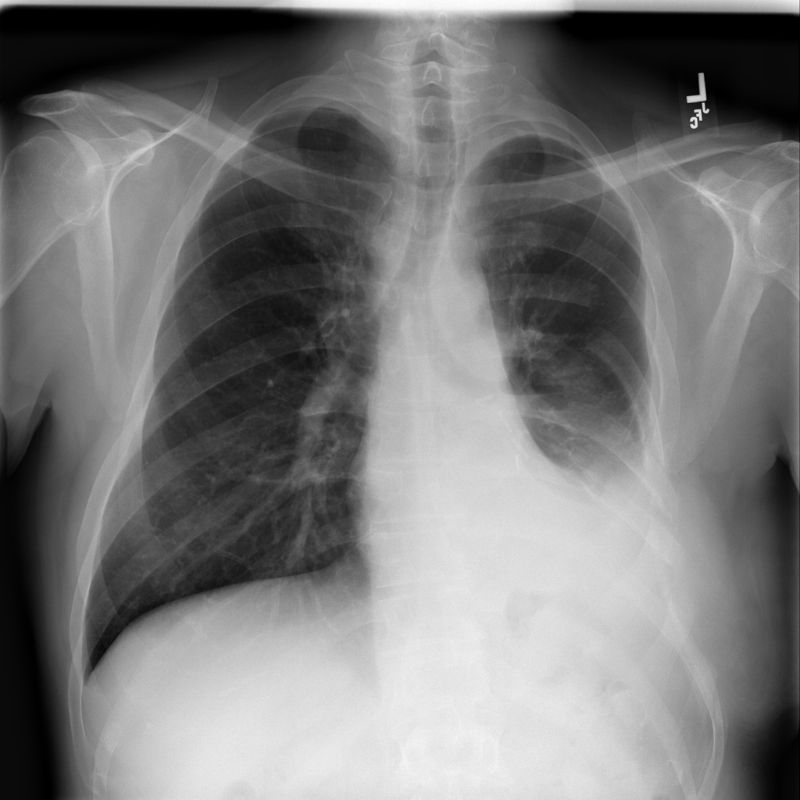PLEURAL EFFUSION: (569, 452, 684, 658)
